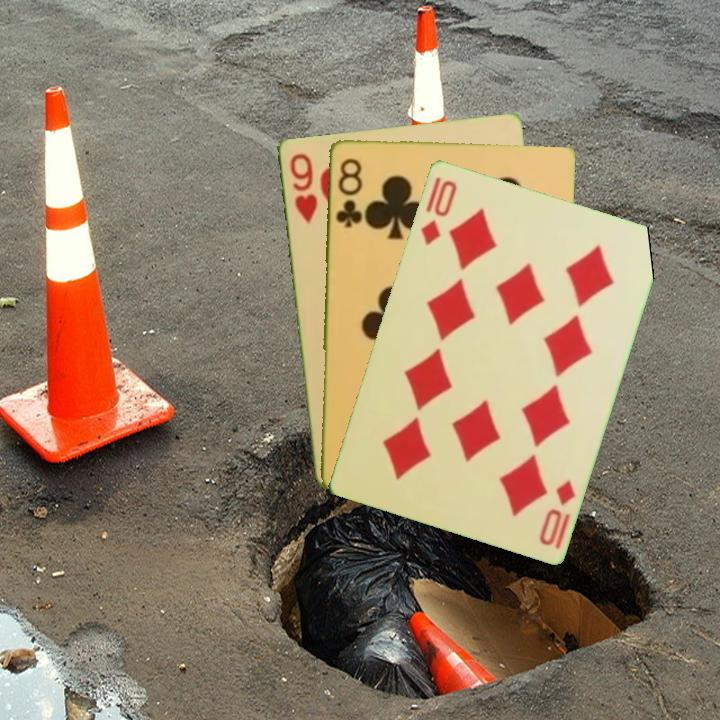10d: (416, 176, 460, 248), (535, 475, 578, 548)
8c: (332, 155, 365, 231)
9h: (286, 149, 320, 226)
